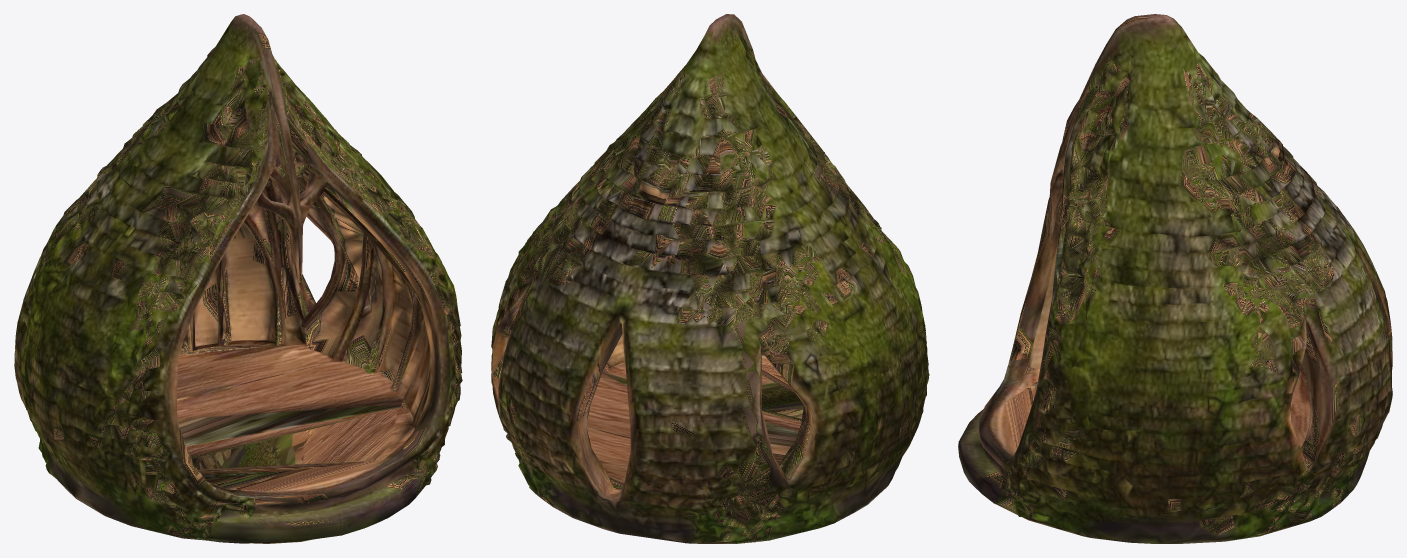
The model's file is Mosswood_Teardrop_Hou.glb.
3 views of the same model, side by side, from view 1: azimuth 30°, elevation 25°; view 2: azimuth 150°, elevation 25°; view 3: azimuth 270°, elevation 25° (orthographic). The views are drawn at different scales.
Parts seen in each view (by area): view 1: Mosswood_Teardrop_Hou; view 2: Mosswood_Teardrop_Hou; view 3: Mosswood_Teardrop_Hou.
Boxes of the visible parts, x1=… form: Mosswood_Teardrop_Hou: x1=14, y1=14, x2=462, y2=543; Mosswood_Teardrop_Hou: x1=491, y1=14, x2=929, y2=543; Mosswood_Teardrop_Hou: x1=958, y1=14, x2=1392, y2=543.
Bounding box in the file's own units: 1.71 × 1.9 × 1.66.
Materials: 1 (1 with a texture image).
